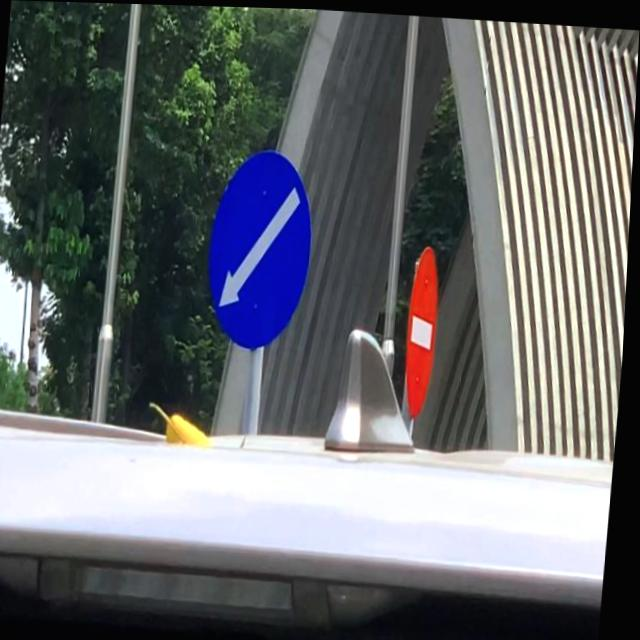Vong chuong ngai vat sang trai: (200, 147, 320, 351)
